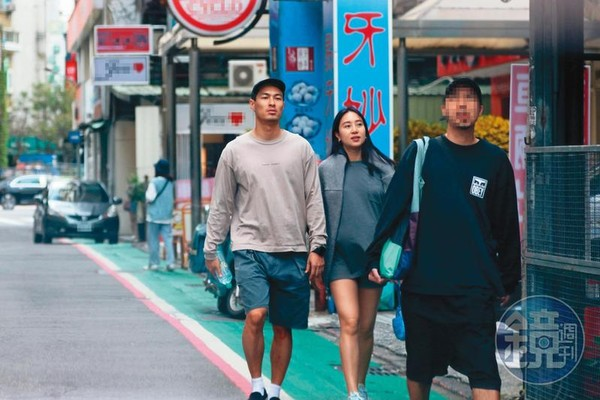people: (384, 81, 520, 400), (210, 81, 317, 400), (311, 108, 398, 400), (141, 160, 178, 272)
